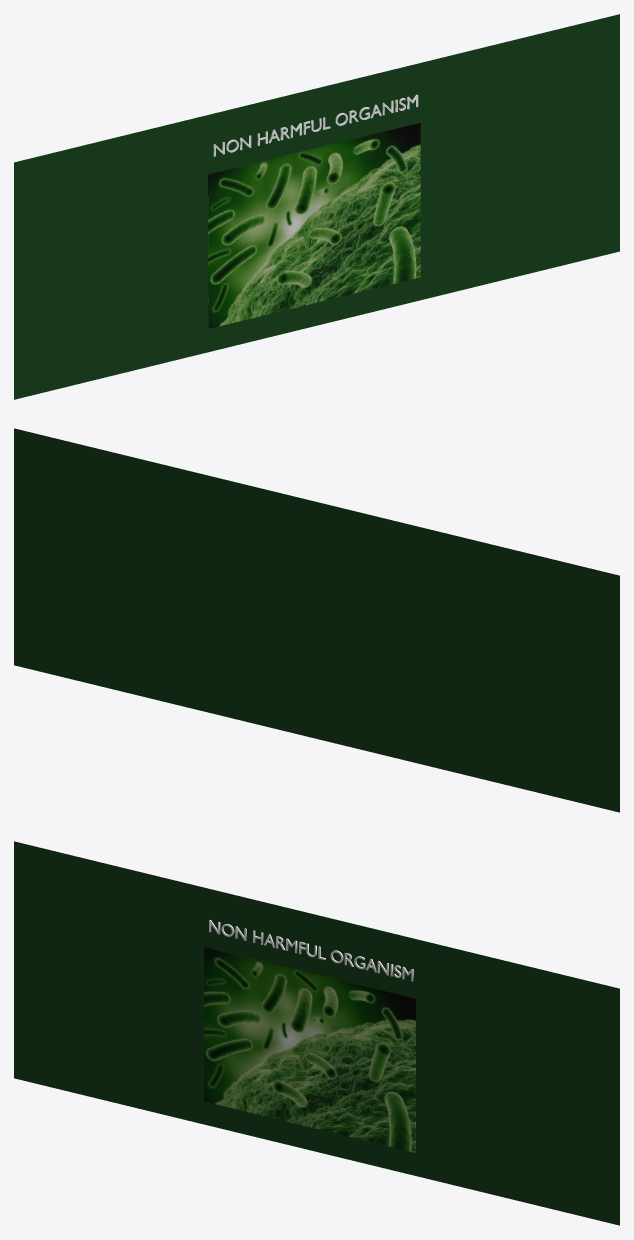
Rendered from anti1.gltf.
3 views of the same model, one above another, from view 1: azimuth 30°, elevation 25°; view 2: azimuth 150°, elevation 25°; view 3: azimuth 330°, elevation 25° (orthographic).
Parts seen in each view (by area): view 1: Plane.013, Plane, Text.008; view 2: Plane.013; view 3: Plane.013, Plane, Text.008.
Part boxes in pixels (bbox=[...]): Plane.013: bbox=[14, 14, 619, 399]; Plane: bbox=[208, 122, 420, 328]; Text.008: bbox=[213, 94, 418, 156]; Plane.013: bbox=[14, 428, 619, 812]; Plane.013: bbox=[14, 841, 619, 1225]; Plane: bbox=[204, 947, 415, 1152]; Text.008: bbox=[209, 920, 413, 981].
Size of the model in its own units: 15.94 by 5.96 by 0.1403.
Materials: 3 (1 with a texture image).
